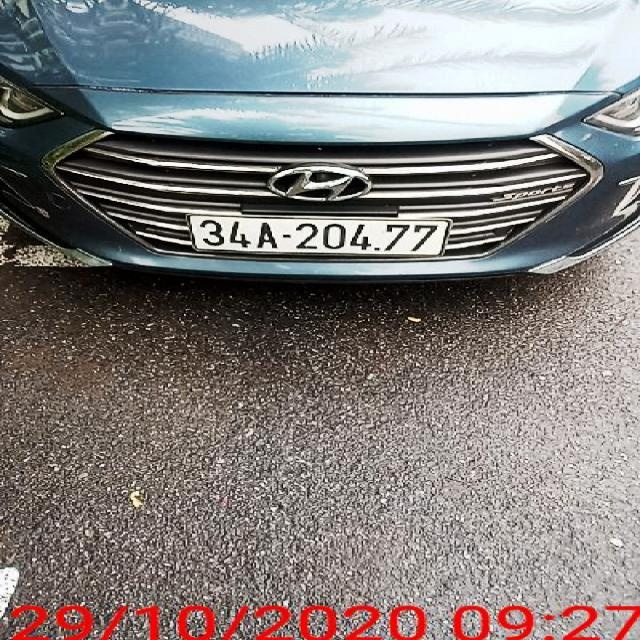license_plate: (190, 215, 453, 257)
